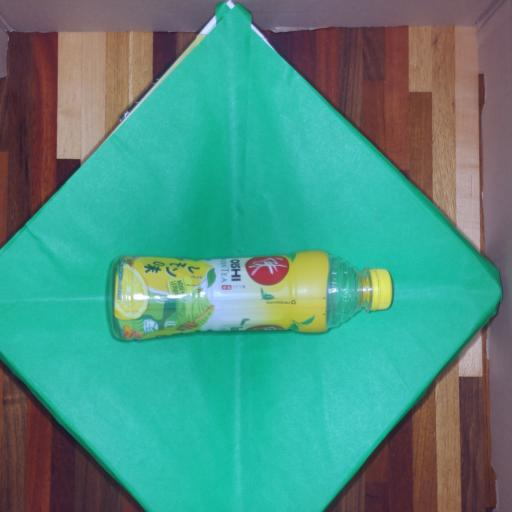bottle: (112, 251, 392, 339)
